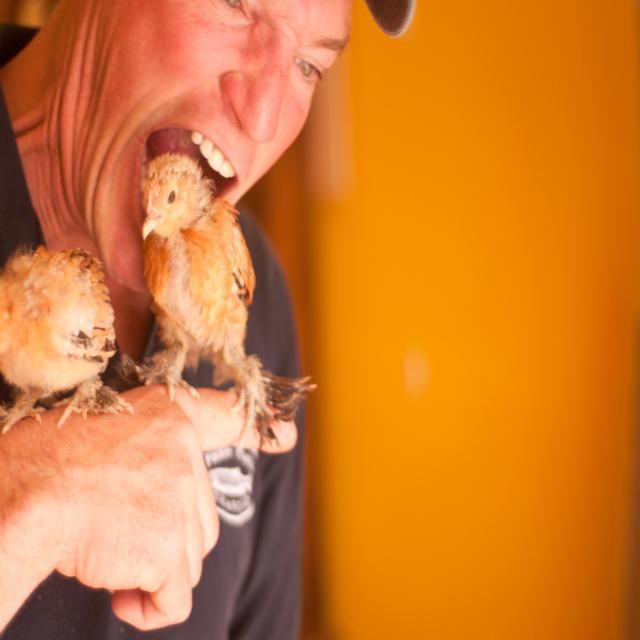Chicken: (0, 238, 130, 422)
